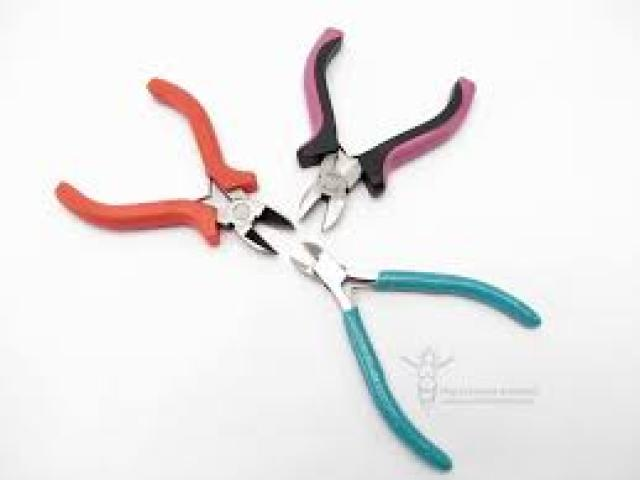Cutting pliers: (290, 244, 541, 470), (56, 79, 292, 252), (298, 33, 474, 230)
